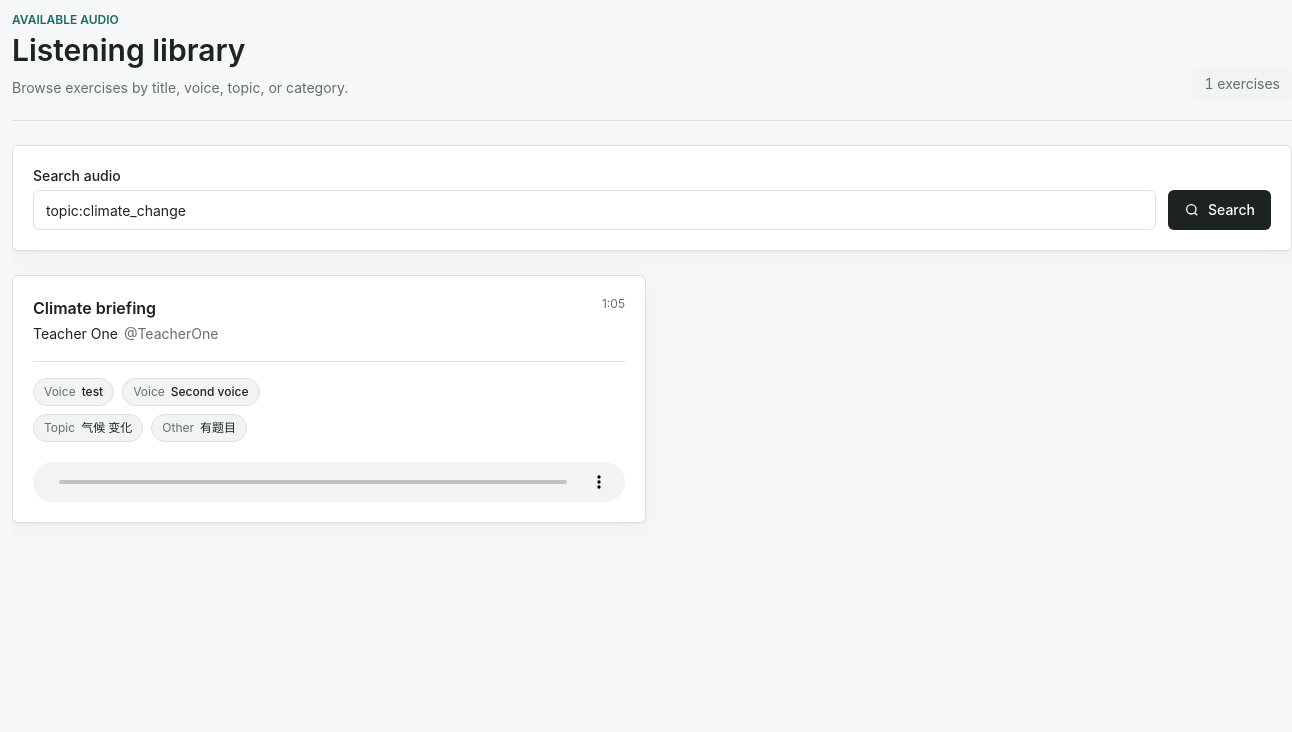
it: audio views › lets a student browse and play public audio without management controls
The image size is (1292, 732).
Check: the dropdown labelled "Search audio" holds "topic:climate_change", box x1=33 y1=190 x2=1156 y2=230
Click the link "Other 有题目" at (199, 428), box x1=151 y1=414 x2=247 y2=442
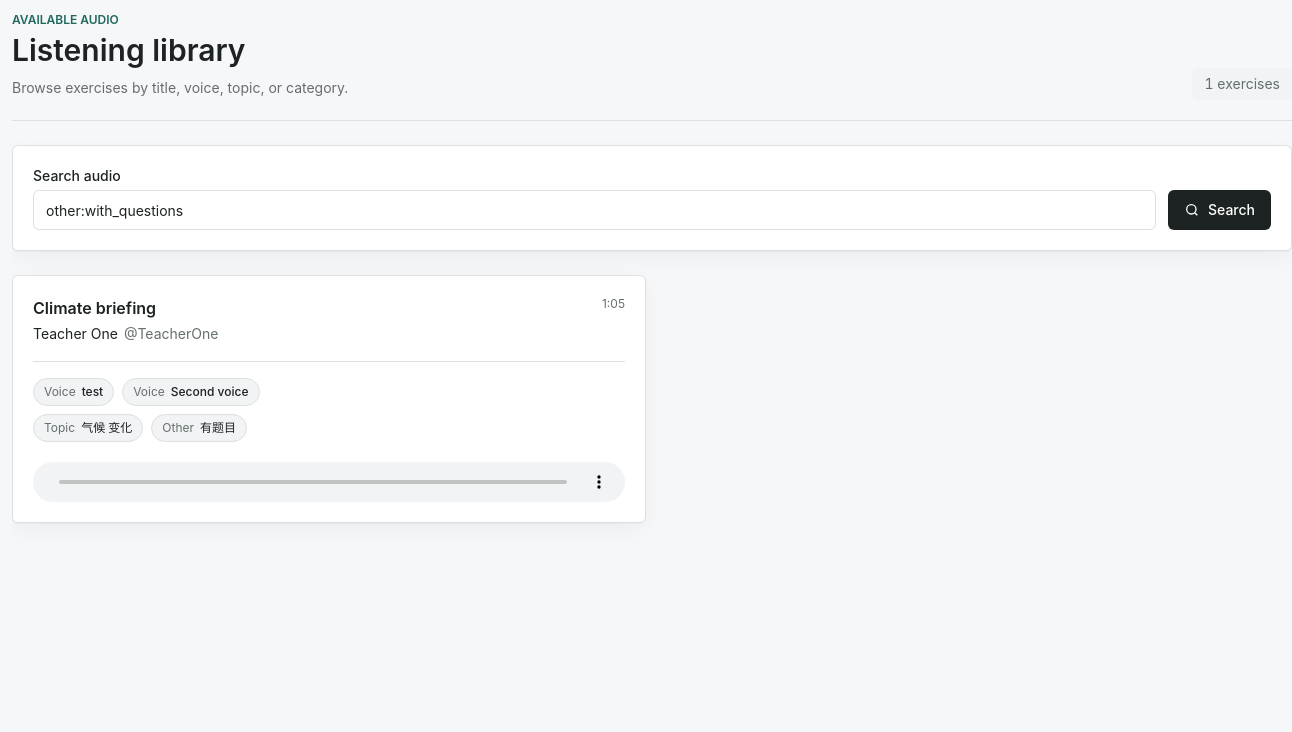
Check: the button "Search" is shown, box x1=1168 y1=190 x2=1271 y2=230
Check: the dropdown labelled "Search audio" holds "other:with_questions", box x1=33 y1=190 x2=1156 y2=230
